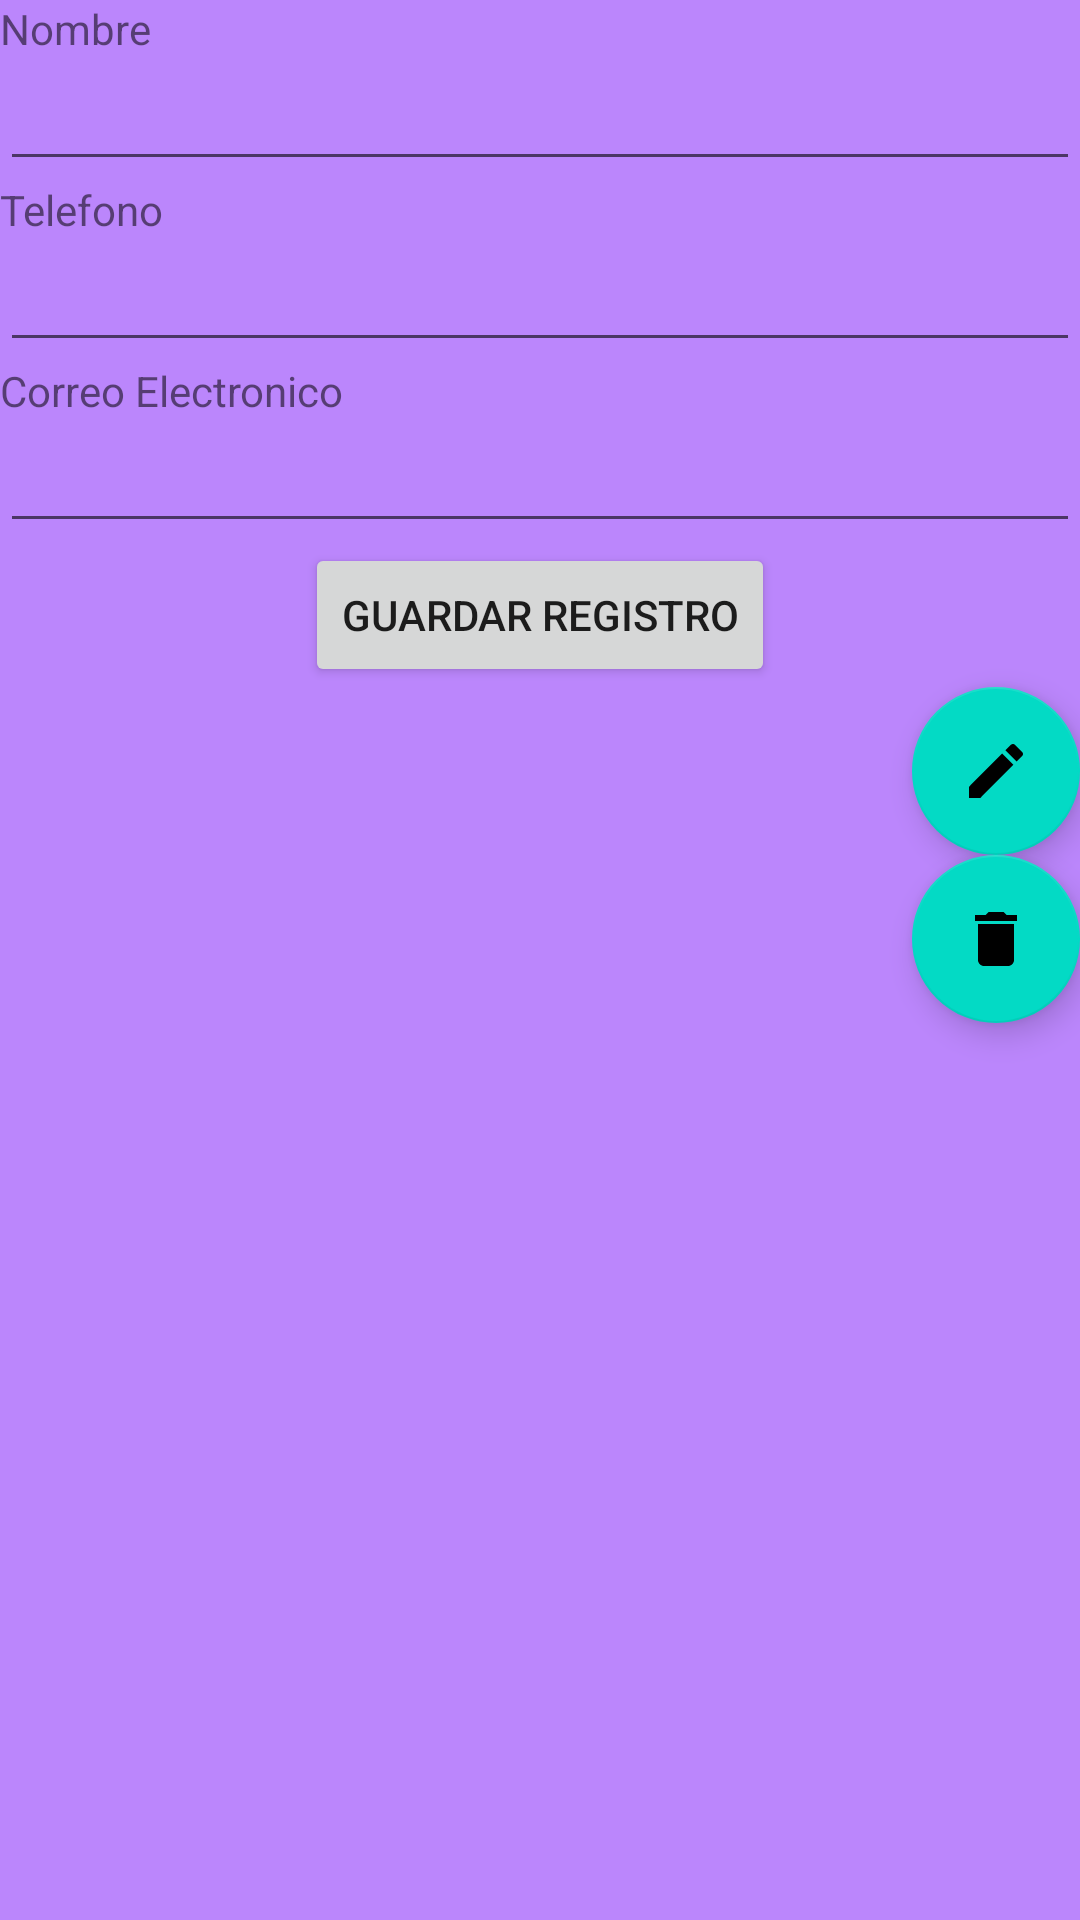

Screen size 1080*1920. Icon name, then its center in pixels as (x,y):
delete: (996,939)
edit: (996,771)
